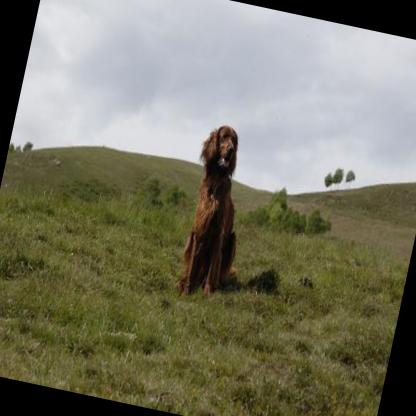Irish_setter: (168, 118, 268, 306)
